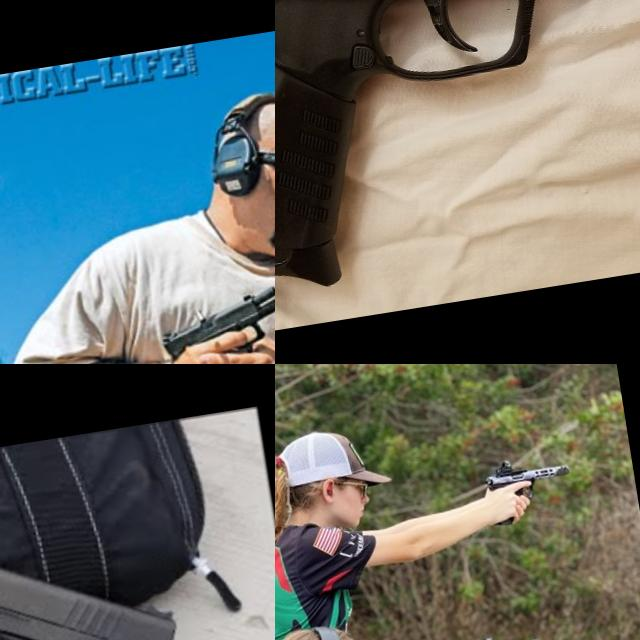handgun: (275, 0, 640, 309), (0, 445, 274, 640), (152, 281, 275, 363), (480, 450, 575, 504), (468, 627, 546, 640)
